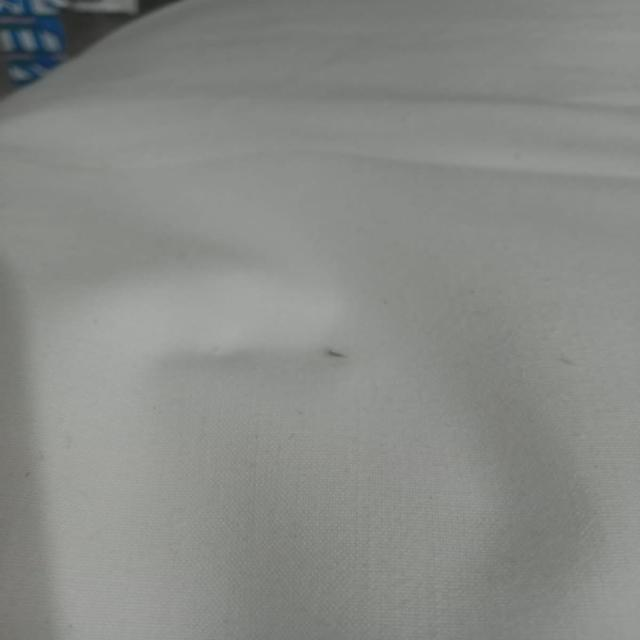stain: (305, 331, 360, 375)
